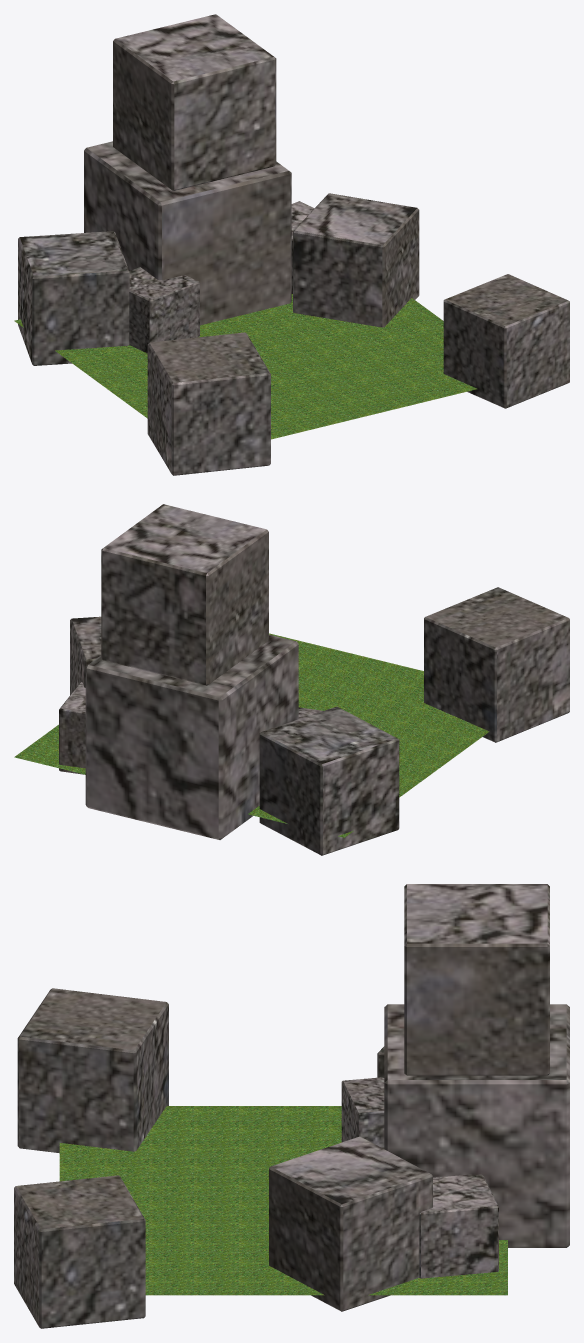
Rendered from start.FBX.
3 views of the same model, one above another, from view 1: azimuth 30°, elevation 25°; view 2: azimuth 150°, elevation 25°; view 3: azimuth 270°, elevation 25° (orthographic). The views are drawn at different scales.
Parts seen in each view (by area): view 1: Cube, Cube.004, start, Cube.012, Cube.001, Cube.013, Cube.009, Cube.003; view 2: Cube, Cube.004, Cube.012, Cube.009, start, Cube.010, Cube.001; view 3: start, Cube.004, Cube, Cube.012, Cube.001, Cube.013, Cube.010, Cube.003.
Boxes of the visible parts, x1,y1,x2,y2 form: Cube: (84, 141, 291, 325); Cube.004: (113, 14, 276, 190); start: (14, 294, 477, 439); Cube.012: (147, 332, 270, 475); Cube.001: (293, 193, 419, 327); Cube.013: (443, 274, 569, 408); Cube.009: (18, 231, 129, 365); Cube.003: (129, 267, 199, 353); Cube: (85, 634, 298, 839); Cube.004: (101, 504, 268, 685); Cube.012: (424, 587, 569, 742); Cube.009: (259, 706, 399, 855); start: (14, 633, 489, 837); Cube.010: (59, 682, 85, 774); Cube.001: (70, 616, 101, 694); start: (59, 1106, 507, 1295); Cube.004: (404, 884, 549, 1075); Cube: (384, 1004, 569, 1247); Cube.012: (17, 988, 168, 1153); Cube.001: (269, 1136, 432, 1311); Cube.013: (14, 1175, 145, 1328); Cube.010: (419, 1174, 498, 1278); Cube.003: (341, 1077, 384, 1148).
Size of the model in its own units: 1222 by 1241 by 760.
